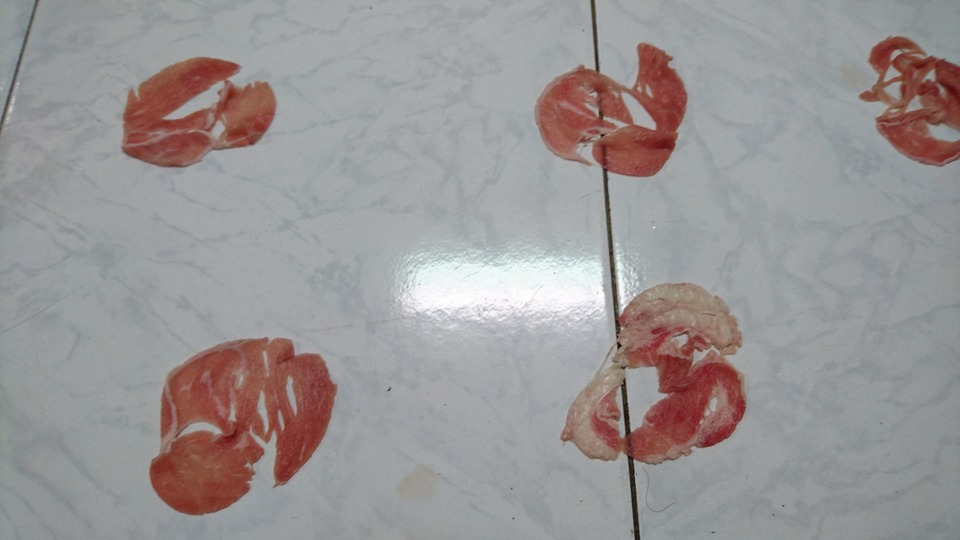restructured meat: (143, 333, 340, 515), (560, 282, 757, 464), (534, 34, 691, 186), (120, 58, 280, 171), (854, 36, 960, 164)
